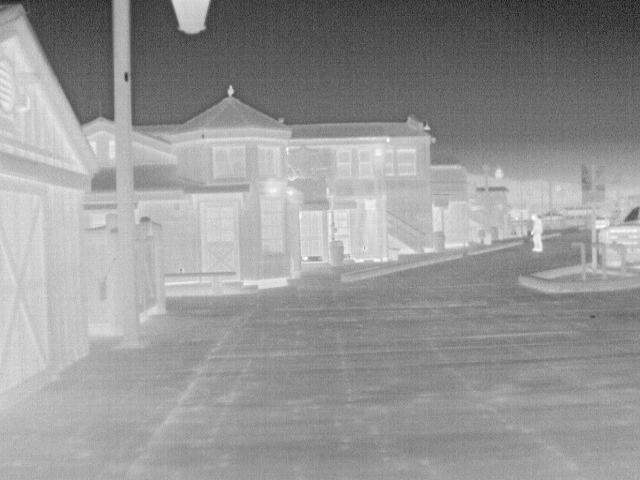car: (597, 204, 640, 250), (593, 214, 610, 232)
person: (529, 210, 545, 253)
